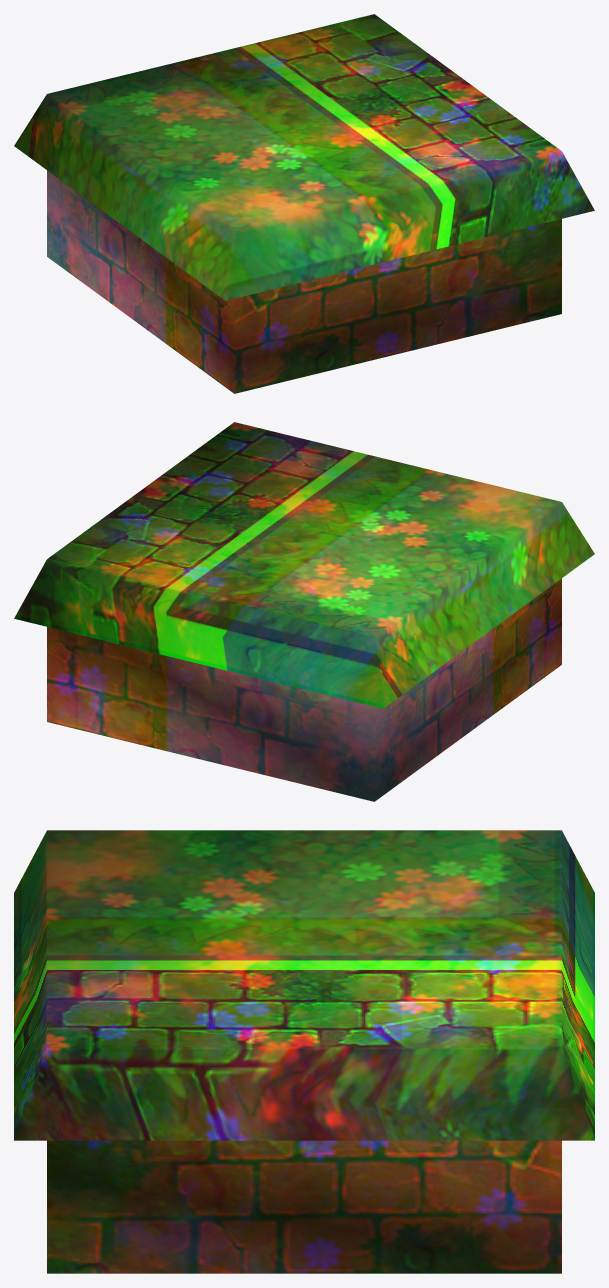
The model's file is floor_08.FBX.
3 renders of one model, top to bottom at view 1: azimuth 30°, elevation 25°; view 2: azimuth 150°, elevation 25°; view 3: azimuth 270°, elevation 25°, orthographic. The views are drawn at different scales.
Visible parts, largest first — view 1: floor_08; view 2: floor_08; view 3: floor_08.
Boxes of the visible parts, x1,y1,x2,y2 form: floor_08: (14,14,594,393); floor_08: (14,422,594,801); floor_08: (14,830,594,1273).
Size of the model in its own units: 133 by 55.84 by 132.
